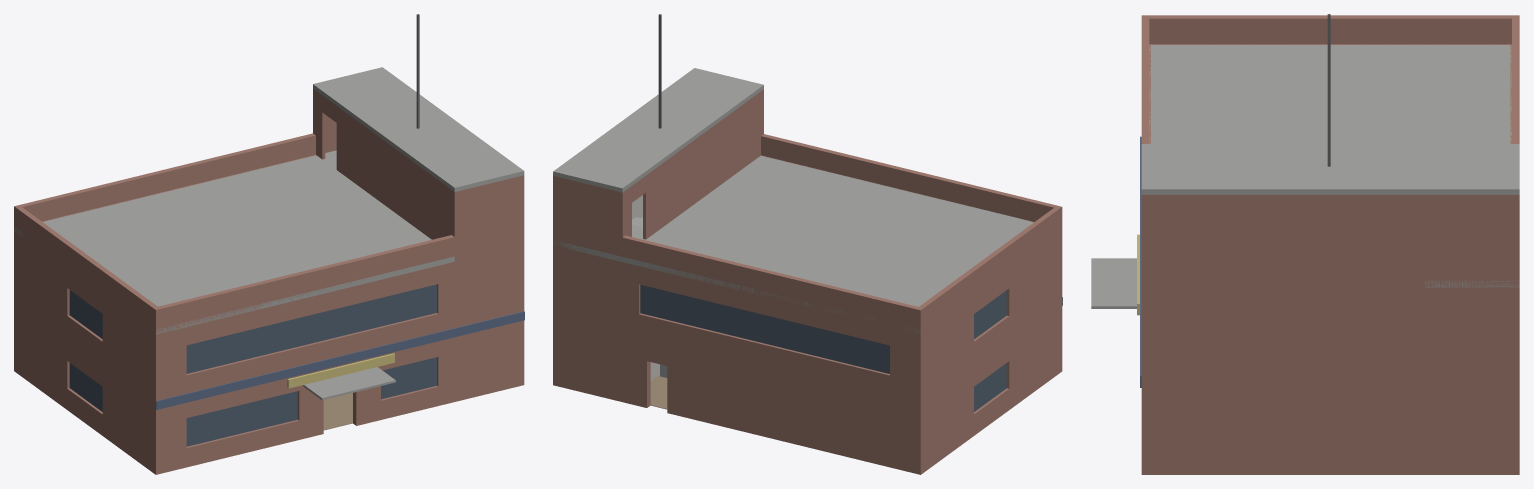
File: police-station.lod0.glb
3 views of the same model, side by side, from view 1: azimuth 30°, elevation 25°; view 2: azimuth 150°, elevation 25°; view 3: azimuth 270°, elevation 25° (orthographic). The views are drawn at different scales.
Visible parts, largest first — view 1: police-station; view 2: police-station; view 3: police-station.
Part boxes in pixels (<box>): police-station: <box>14,14,524,474</box>; police-station: <box>553,14,1062,474</box>; police-station: <box>1091,14,1519,474</box>.
Size of the model in its own units: 18 by 15.3 by 13.6.
